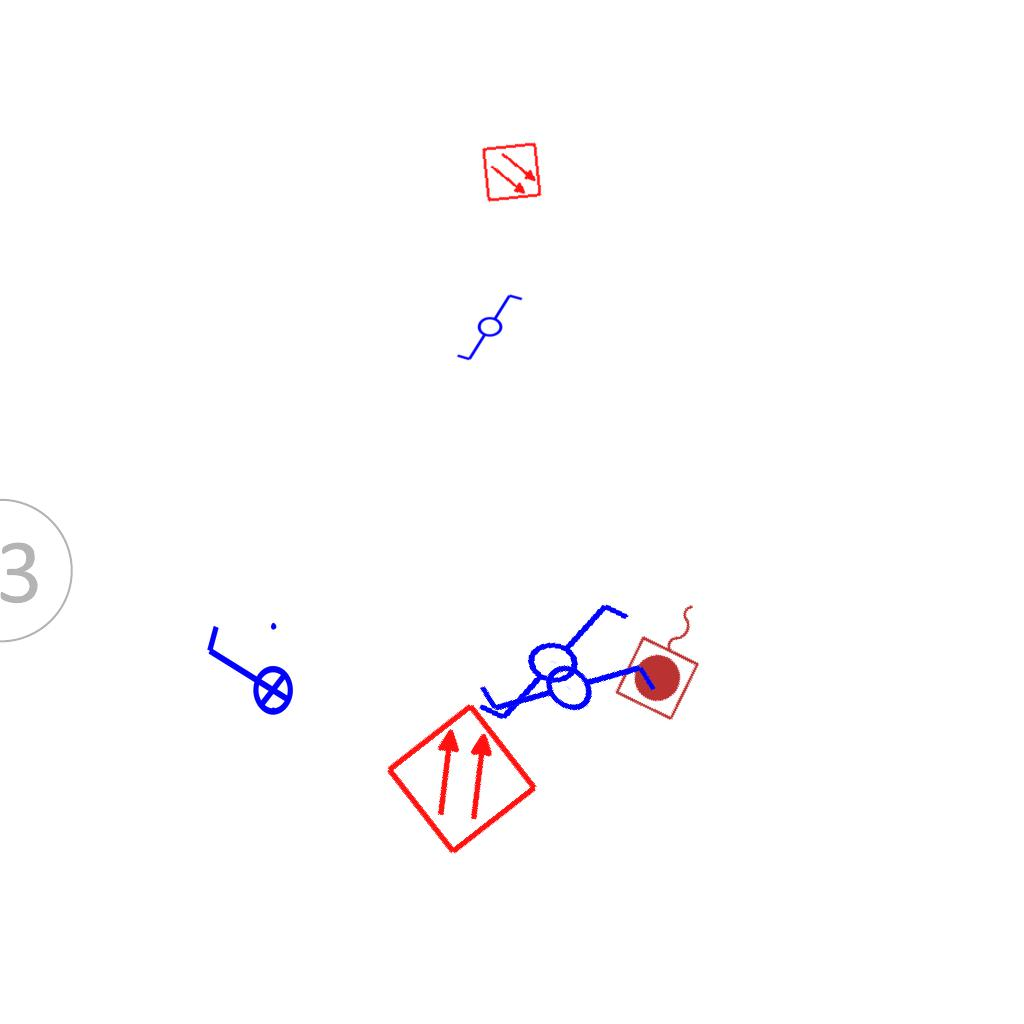Ausschalter_beleuchtet: (199, 617, 295, 729)
RMO_Rauchmelder_optischer: (382, 699, 541, 858), (481, 141, 543, 203)
Wechselschalter: (466, 588, 681, 802), (455, 574, 636, 744), (455, 292, 533, 364)
Zugtaster: (609, 585, 729, 727)
